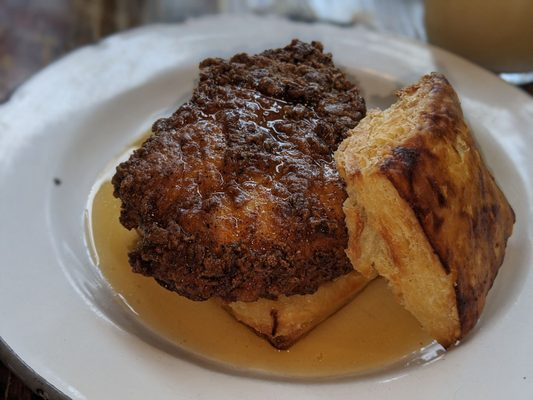soup: (114, 38, 378, 351), (334, 71, 516, 349)
